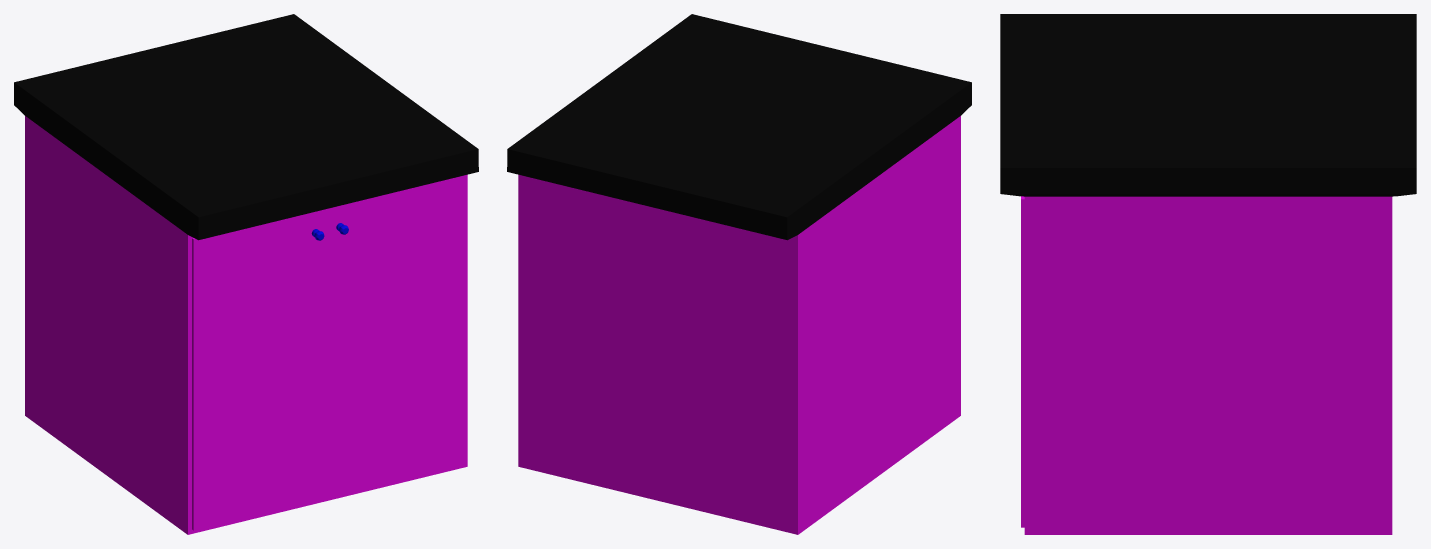
The model's file is Comoda_02.fbx.
The picture shows the model from 3 angles, left to right: view 1: azimuth 30°, elevation 25°; view 2: azimuth 150°, elevation 25°; view 3: azimuth 270°, elevation 25°; orthographic projection. The views are drawn at different scales.
Visible parts, largest first — view 1: pCube5; view 2: pCube5; view 3: pCube5.
Boxes of the visible parts, box(x1,y1,x2,y2) form: pCube5: box(14, 14, 478, 534); pCube5: box(507, 14, 971, 534); pCube5: box(1000, 14, 1416, 534).
Bounding box in the file's own units: 59.64 × 66.18 × 68.01.
